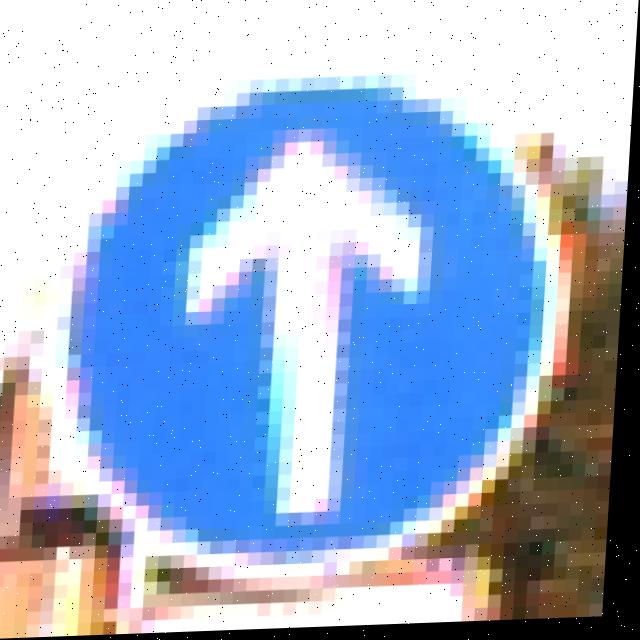compulsory_ahead: (61, 54, 599, 593)
